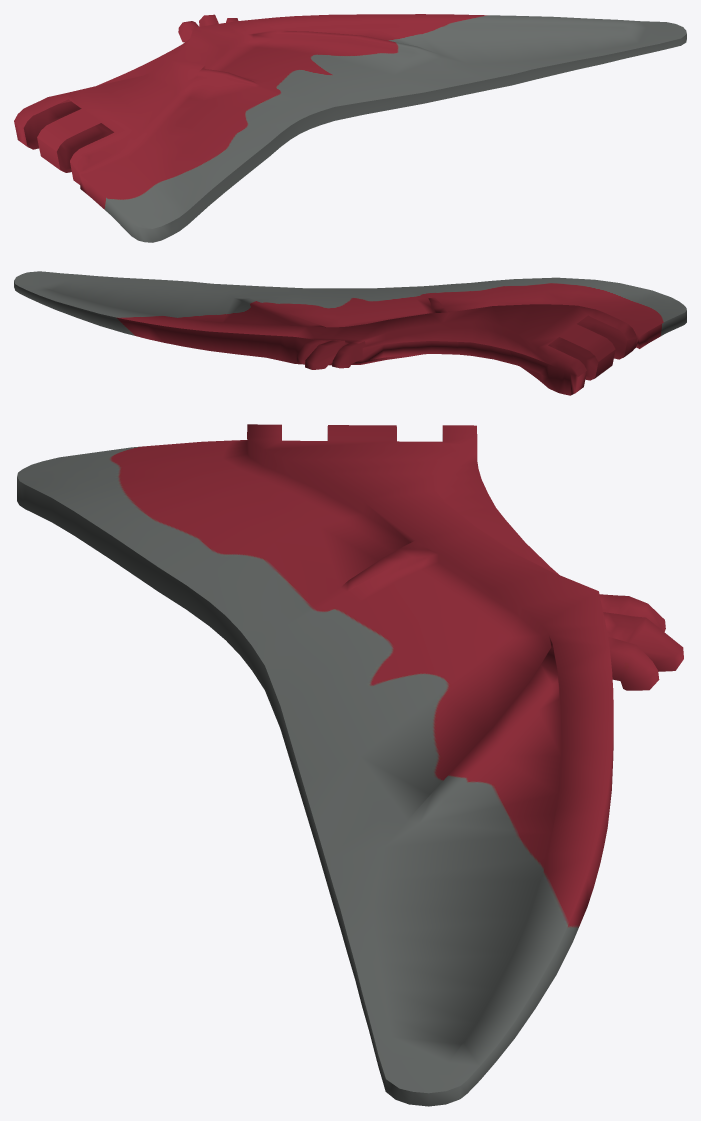
File: AlaDer.obj
3 renders of one model, top to bottom at view 1: azimuth 30°, elevation 25°; view 2: azimuth 150°, elevation 25°; view 3: azimuth 270°, elevation 25°, orthographic. The views are drawn at different scales.
Parts seen in each view (by area): view 1: AlaDer1:polySurface69 group1; view 2: AlaDer1:polySurface69 group1; view 3: AlaDer1:polySurface69 group1.
Part boxes in pixels (x1,y1,x2,y2): AlaDer1:polySurface69 group1: (14, 14, 686, 242); AlaDer1:polySurface69 group1: (14, 271, 686, 395); AlaDer1:polySurface69 group1: (17, 424, 683, 1106).
Size of the model in its own units: 6.6 by 0.8542 by 3.31.
1 material, 1 textured.
